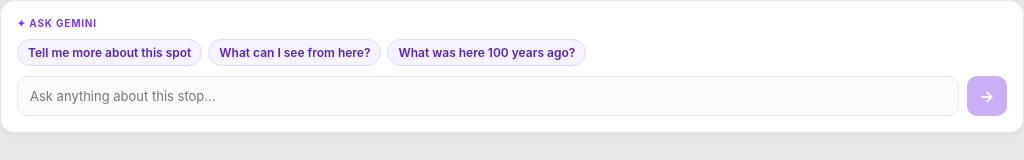
Test: AskAI › send button enables when input has text
The image size is (1024, 160).
Step 1. Type "hello" into the field with placeholder "Ask anything about this stop…" → [488, 96], box x1=17 y1=76 x2=959 y2=116
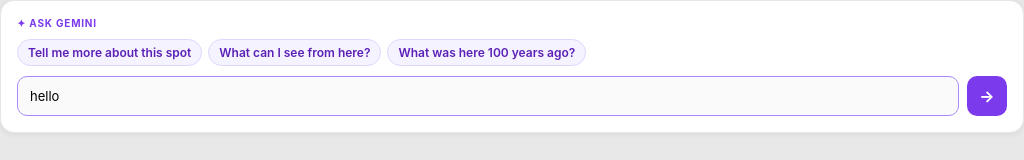
Expected: the button named "Send question" is enabled, x1=967 y1=76 x2=1007 y2=116
